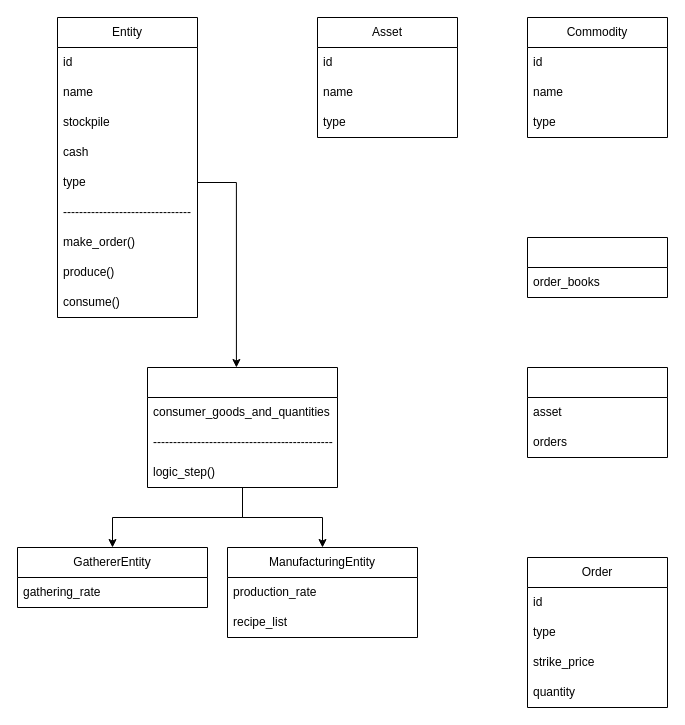
Some shapes in this 685 by 725 pixel diagram are drawn without their labels. The shapes that lost their labels are listed below. From the top down, each one's box as (x1, y1, x2, y2) in pixels, then its label:
(526, 236, 668, 298): Exchange
(146, 366, 338, 488): EntityType
(526, 366, 668, 458): OrderBook
